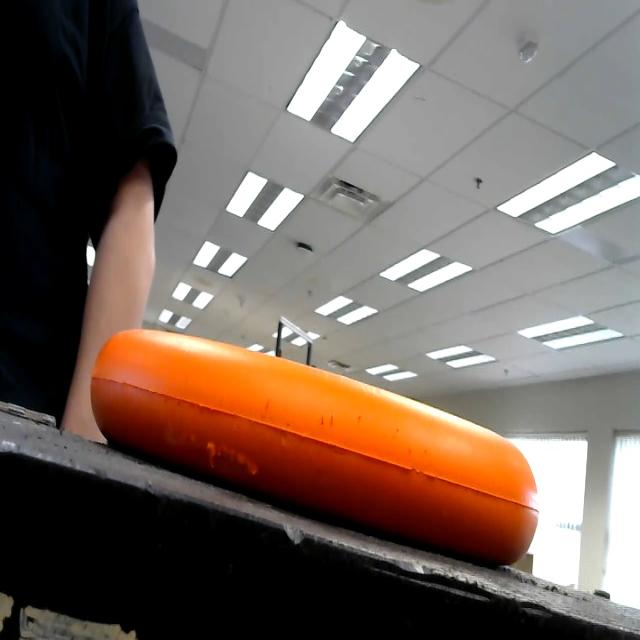note: (85, 305, 562, 589)
